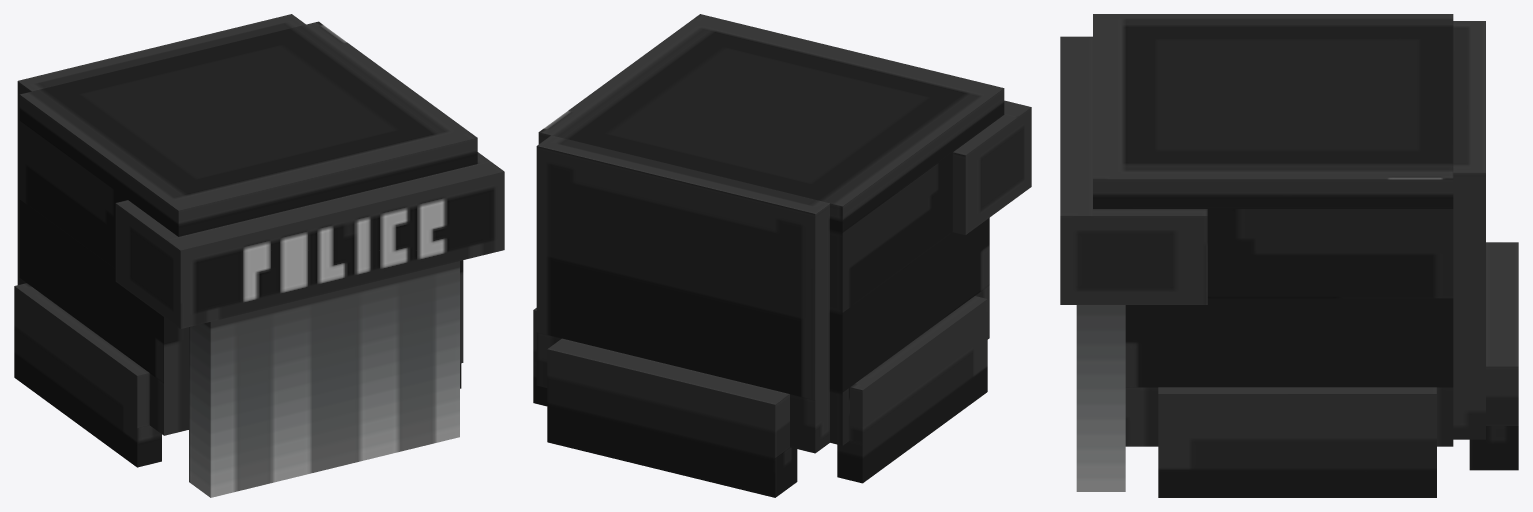
File: Accessories027.fbx
The picture shows the model from 3 angles, left to right: view 1: azimuth 30°, elevation 25°; view 2: azimuth 150°, elevation 25°; view 3: azimuth 270°, elevation 25°; orthographic projection. The views are drawn at different scales.
Visible parts, largest first — view 1: Accessories027; view 2: Accessories027; view 3: Accessories027.
Boxes of the visible parts, box(x1,y1,x2,y2) form: Accessories027: box(14, 14, 504, 497); Accessories027: box(533, 14, 1031, 497); Accessories027: box(1060, 14, 1518, 497).
Size of the model in its own units: 27.33 by 23.2 by 29.54.
